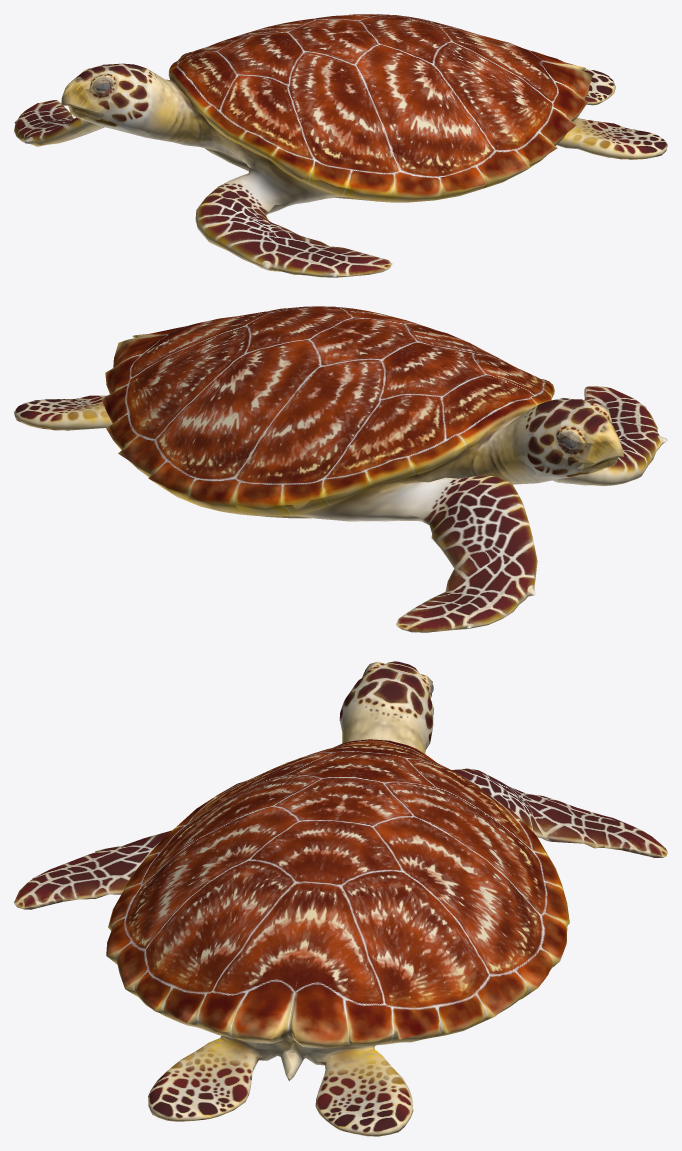
File: turtleScene_edit_for_FBX.fbx
The picture shows the model from 3 angles, top to bottom: view 1: azimuth 30°, elevation 25°; view 2: azimuth 150°, elevation 25°; view 3: azimuth 270°, elevation 25°; orthographic projection. The views are drawn at different scales.
Visible parts, largest first — view 1: Turtle_Pose_8_Turtle1_0; view 2: Turtle_Pose_8_Turtle1_0; view 3: Turtle_Pose_8_Turtle1_0.
Boxes of the visible parts, left/top/right/bottom form: Turtle_Pose_8_Turtle1_0: left=14, top=14, right=667, bottom=277; Turtle_Pose_8_Turtle1_0: left=14, top=306, right=667, bottom=632; Turtle_Pose_8_Turtle1_0: left=14, top=661, right=667, bottom=1136.
Size of the model in its own units: 7733 by 1867 by 6439.
